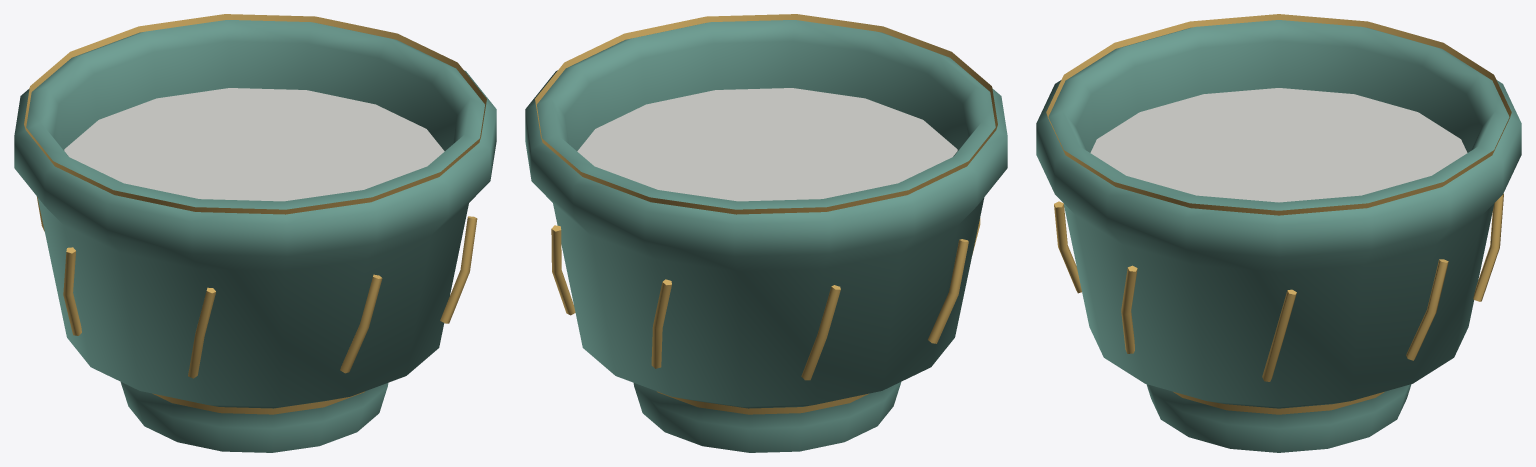
Rendered from planter.glb.
3 views of the same model, side by side, from view 1: azimuth 30°, elevation 25°; view 2: azimuth 150°, elevation 25°; view 3: azimuth 270°, elevation 25° (orthographic).
Visible parts, largest first — view 1: planter_Jade, planter_Stone, planter_Gold; view 2: planter_Jade, planter_Stone, planter_Gold; view 3: planter_Jade, planter_Stone, planter_Gold.
Boxes of the visible parts, box(x1,y1,x2,y2) form: planter_Jade: box(14, 20, 496, 452); planter_Stone: box(64, 88, 444, 201); planter_Gold: box(24, 14, 486, 414); planter_Jade: box(525, 20, 1007, 452); planter_Stone: box(577, 88, 957, 201); planter_Gold: box(535, 14, 997, 414); planter_Jade: box(1036, 20, 1521, 452); planter_Stone: box(1090, 88, 1467, 202); planter_Gold: box(1046, 14, 1511, 414).
Bounding box in the file's own units: 1.1 × 0.72 × 1.1.
